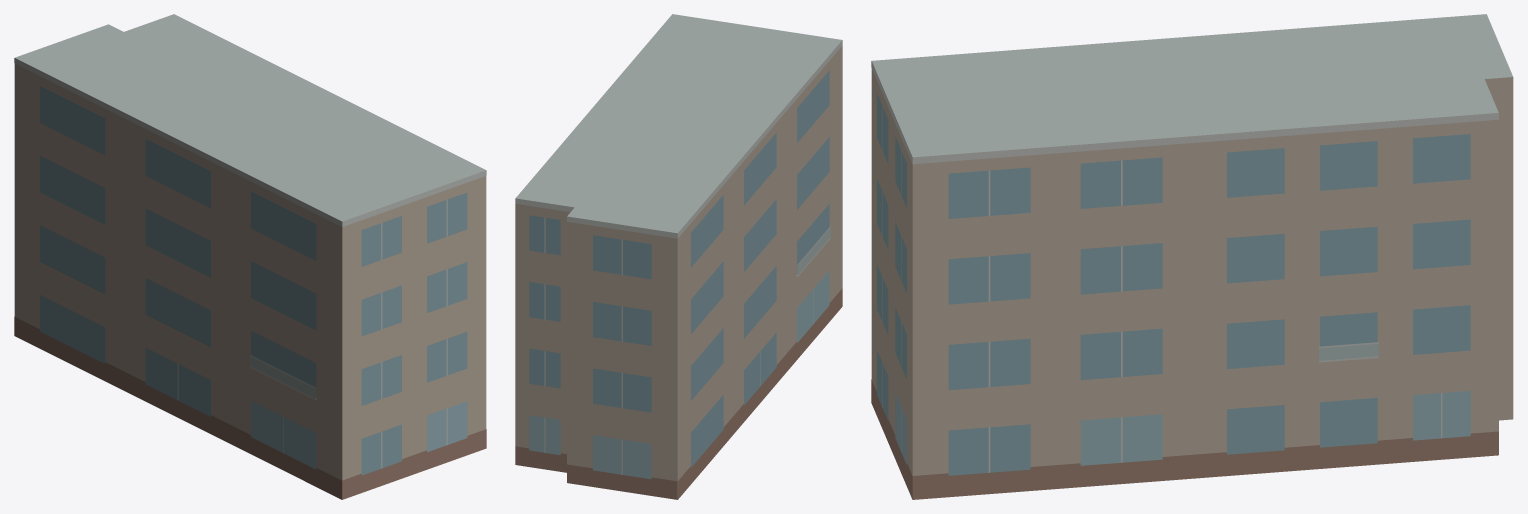
Rendered from residential-38ff769a-9458-456c-8c65-6ce8399ccf66.glb.
3 views of the same model, side by side, from view 1: azimuth 30°, elevation 25°; view 2: azimuth 150°, elevation 25°; view 3: azimuth 270°, elevation 25° (orthographic). The views are drawn at different scales.
Visible parts, largest first — view 1: residential-38ff769a-9458-456c-8c65-6ce8399ccf66.tmp; view 2: residential-38ff769a-9458-456c-8c65-6ce8399ccf66.tmp; view 3: residential-38ff769a-9458-456c-8c65-6ce8399ccf66.tmp.
Boxes of the visible parts, x1,y1,x2,y2 form: residential-38ff769a-9458-456c-8c65-6ce8399ccf66.tmp: [14, 14, 486, 499]; residential-38ff769a-9458-456c-8c65-6ce8399ccf66.tmp: [515, 14, 842, 499]; residential-38ff769a-9458-456c-8c65-6ce8399ccf66.tmp: [871, 14, 1513, 499].
Size of the model in its own units: 10.97 by 12.2 by 20.73.
